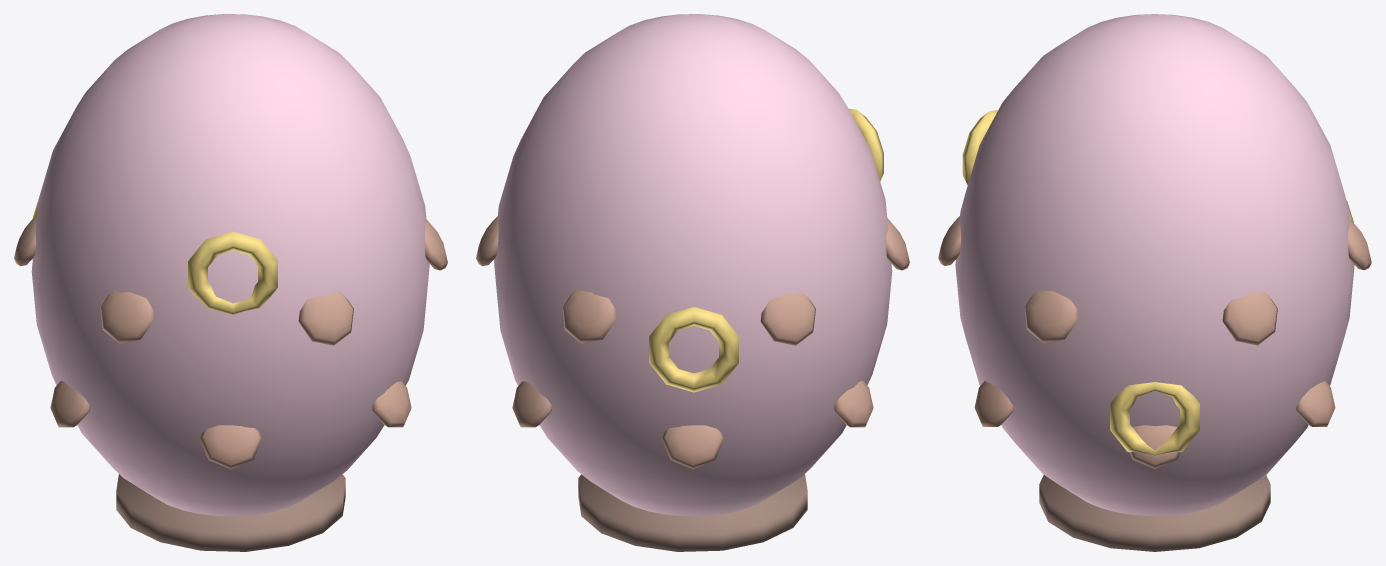
Rendered from egg_blossom_06.glb.
3 views of the same model, side by side, from view 1: azimuth 30°, elevation 25°; view 2: azimuth 150°, elevation 25°; view 3: azimuth 270°, elevation 25° (orthographic).
Parts seen in each view (by area): view 1: ball; view 2: ball; view 3: ball.
Part boxes in pixels (<box>): ball: <box>14,14,447,551</box>; ball: <box>476,14,909,551</box>; ball: <box>938,14,1371,551</box>.
Size of the model in its own units: 0.7658 by 1 by 0.8252.
